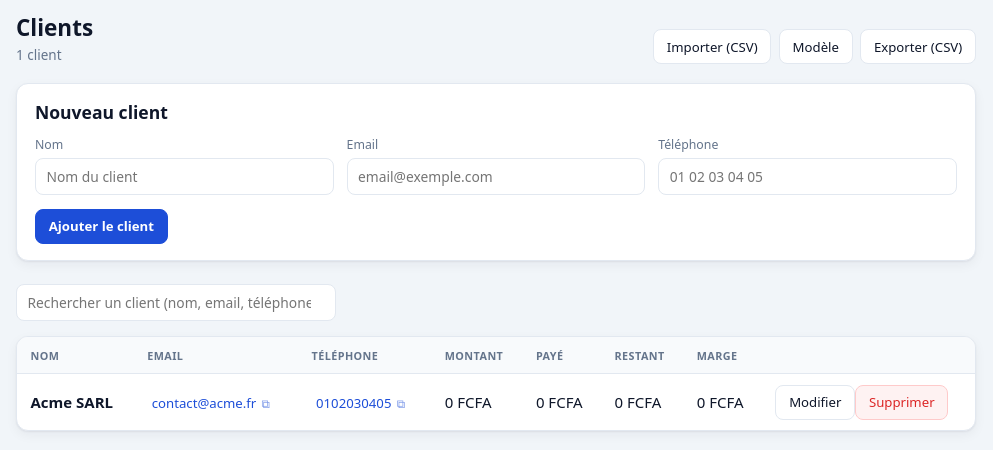
Test: ClientsPage › charge la fiche complète dans le formulaire pour modification
What coordinates should you click on to do the following:
click the button "Modifier"
I would click on:
 (815, 402)
Its box is [775, 385, 855, 420].
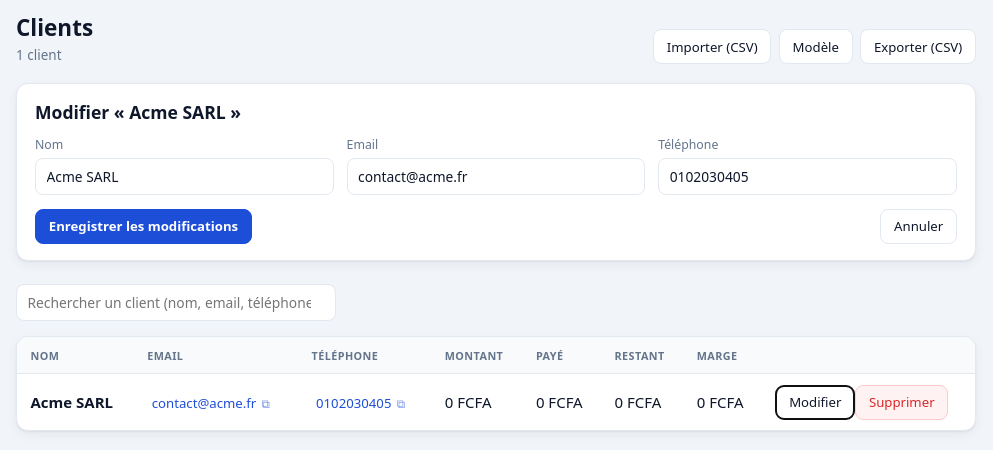
Result: the heading "Modifier « Acme SARL »" is shown at [35, 100, 241, 124]
Result: the field showing "Acme SARL" is shown at [35, 158, 334, 195]
Result: the field showing "contact@acme.fr" is shown at [347, 158, 645, 195]
